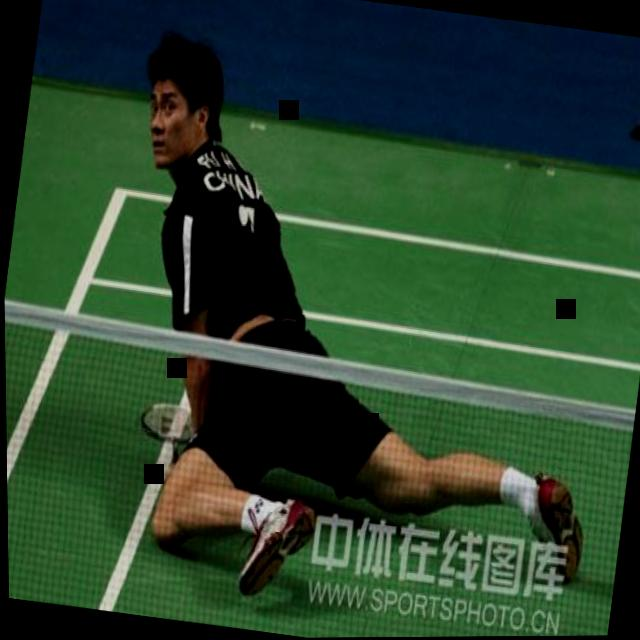Fall-Detected: (57, 0, 640, 640)
